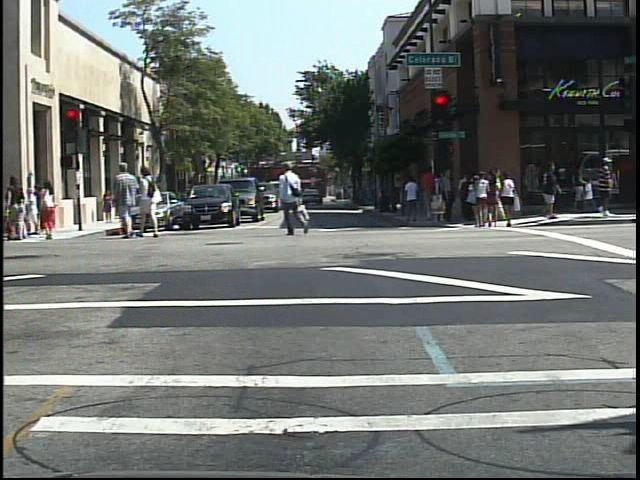person: (274, 156, 307, 240), (589, 156, 622, 220), (112, 161, 137, 239), (5, 172, 31, 246), (37, 175, 64, 244), (139, 164, 161, 238), (469, 175, 485, 232)
